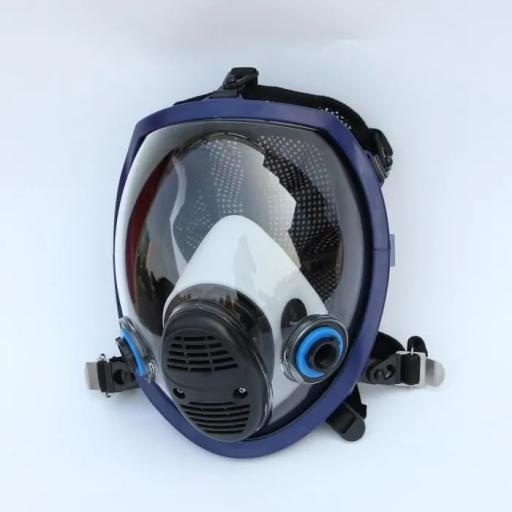mask: (110, 84, 399, 464)
